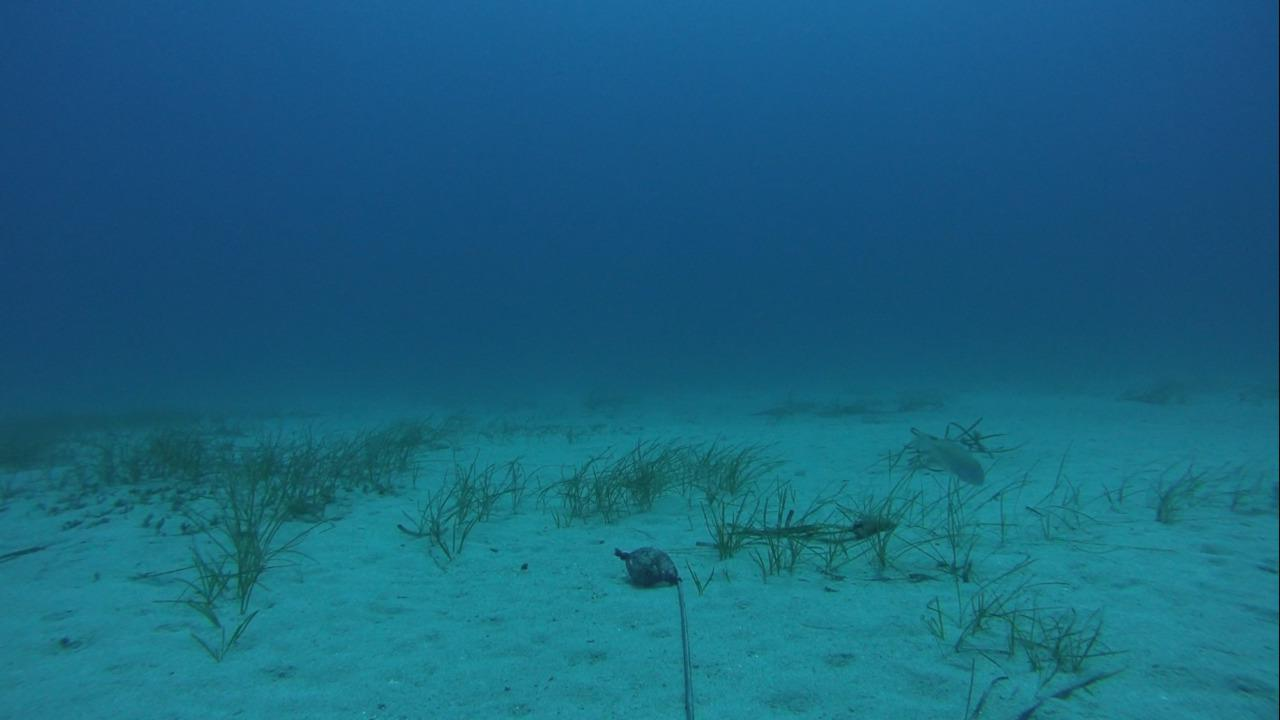raor: (903, 420, 986, 488)
